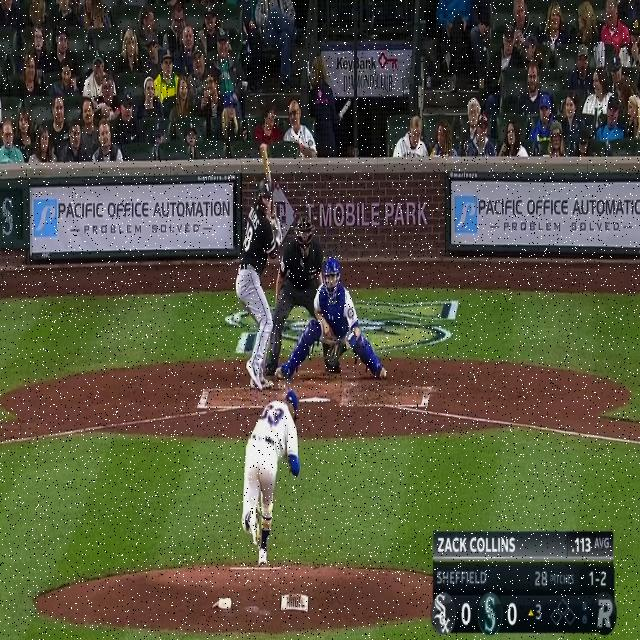baseball: (232, 312, 242, 326)
